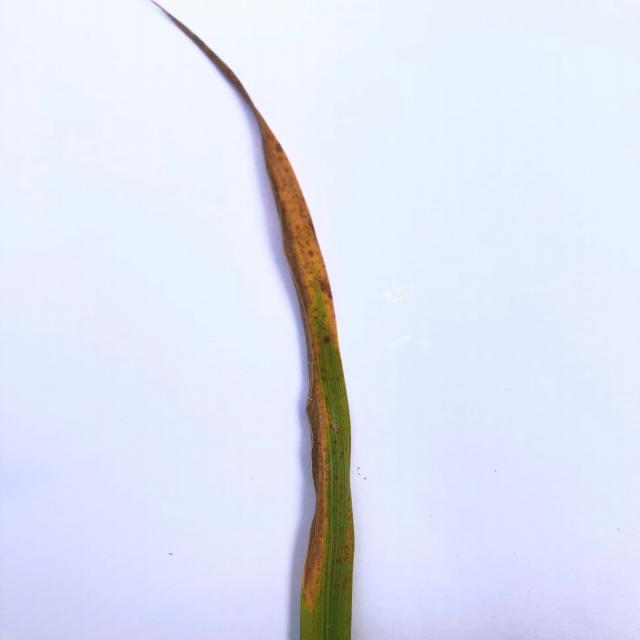tungro: (253, 110, 334, 620)
